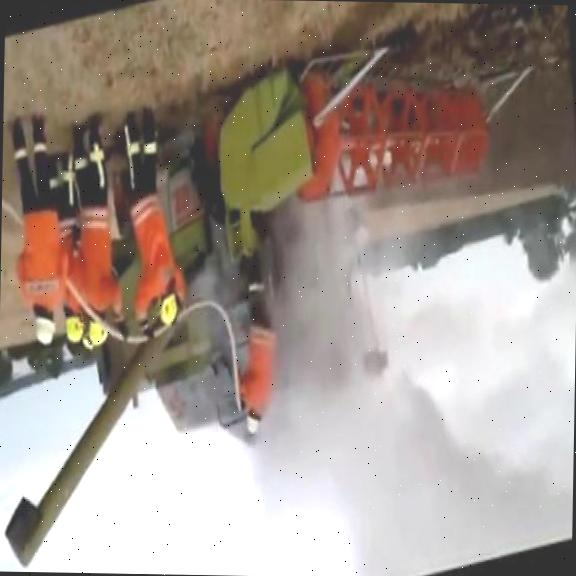smoke: (330, 364, 456, 576), (264, 187, 381, 387), (440, 424, 574, 576), (237, 378, 344, 559)
